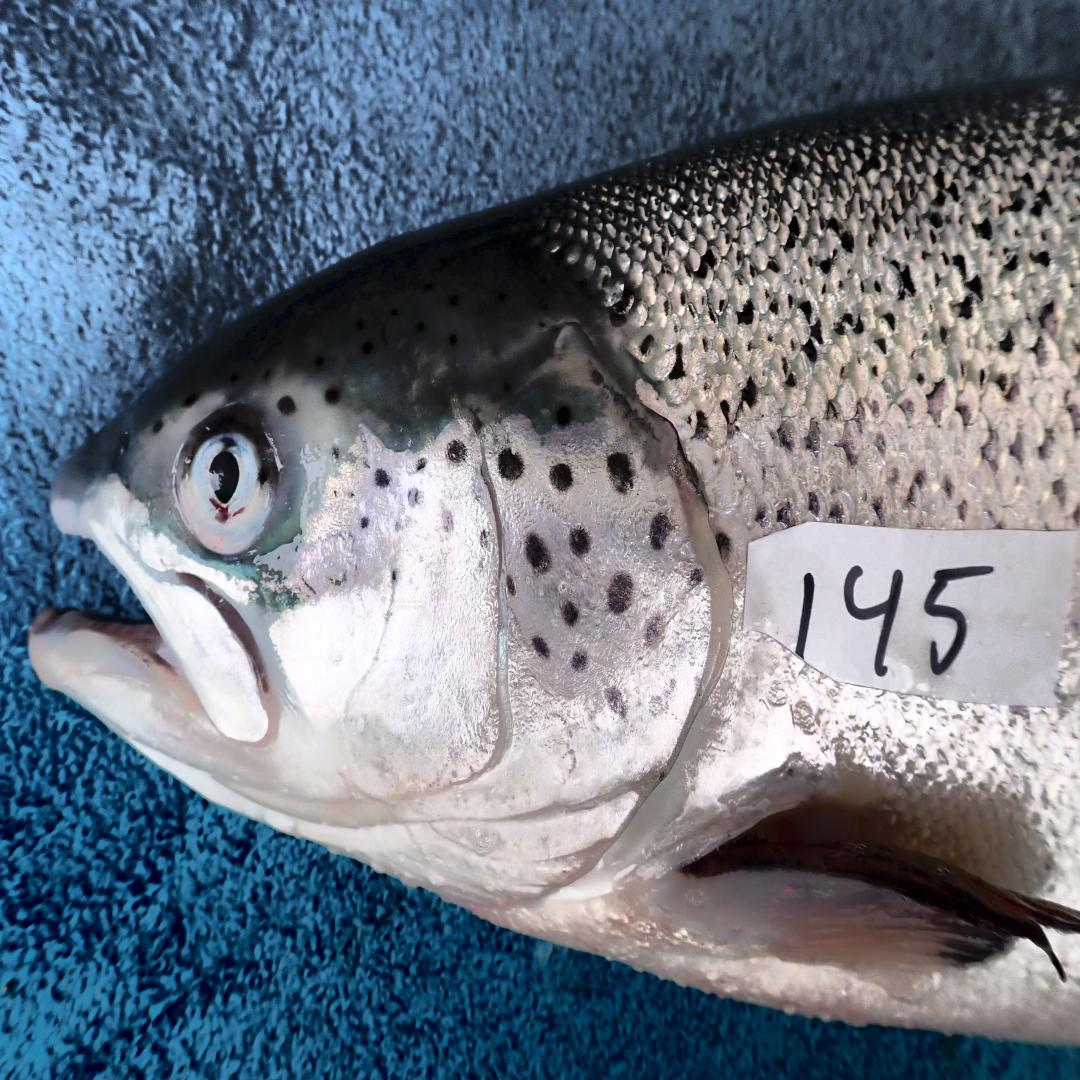spot: (525, 534, 551, 574), (608, 574, 633, 613), (608, 453, 633, 492), (498, 447, 523, 481), (650, 512, 671, 551), (643, 616, 664, 650), (570, 526, 591, 557), (605, 686, 626, 717), (551, 464, 574, 492), (445, 439, 466, 464), (532, 636, 551, 658), (373, 467, 392, 489), (561, 602, 578, 624), (572, 650, 589, 672), (407, 487, 424, 506), (690, 568, 705, 588), (441, 509, 454, 532), (506, 574, 515, 596), (480, 529, 489, 546), (416, 456, 426, 470), (359, 515, 369, 529), (390, 568, 399, 582), (394, 520, 403, 532), (348, 489, 356, 498), (333, 491, 337, 498)
